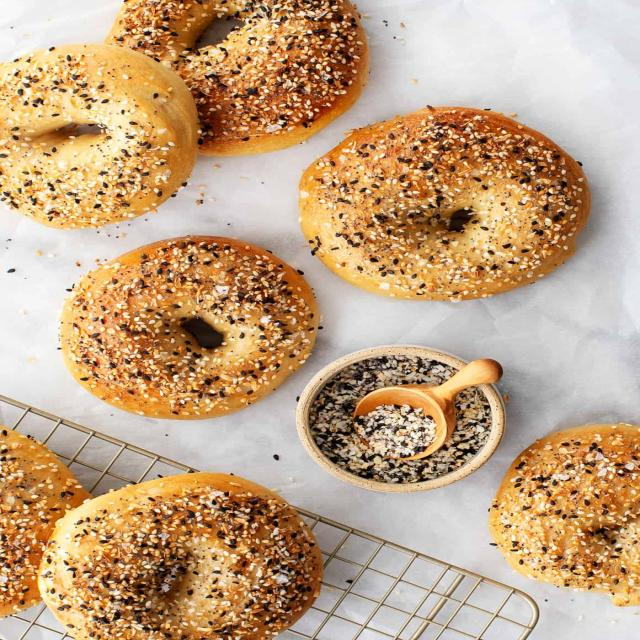Bagel: (298, 106, 590, 300), (39, 472, 323, 640), (60, 236, 319, 419), (106, 0, 369, 155), (0, 44, 199, 229), (489, 424, 639, 606)
